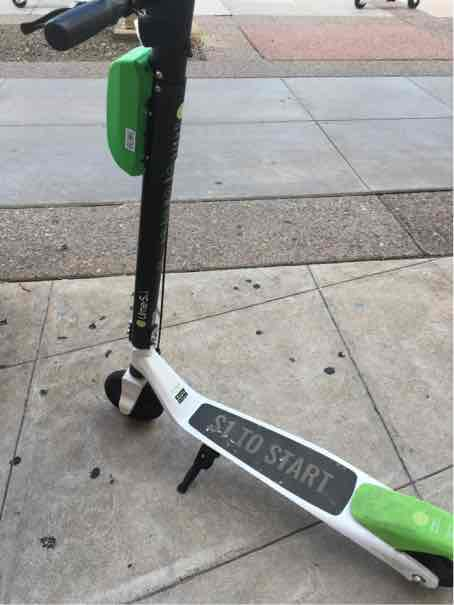scooter: (25, 8, 446, 605)
